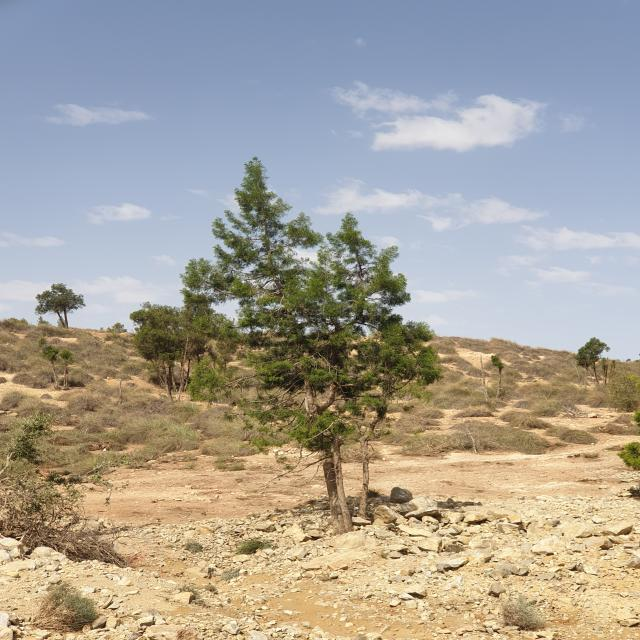Tree: (182, 158, 441, 534), (129, 289, 239, 400), (34, 283, 84, 329)
